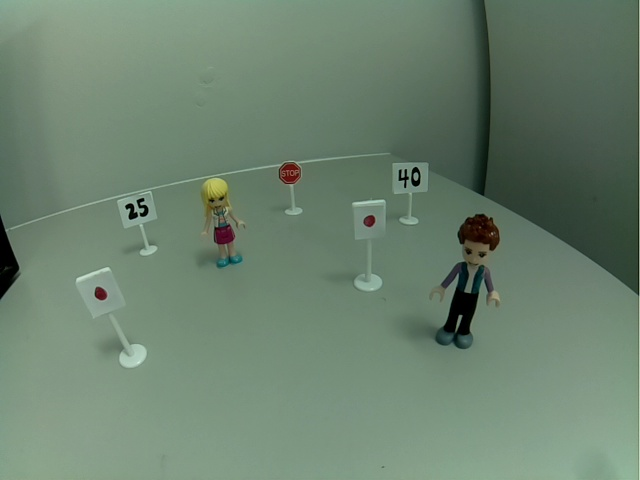people: (425, 212, 504, 352), (197, 176, 249, 270)
red light: (74, 266, 128, 320), (351, 198, 388, 241)
speed 25: (115, 191, 159, 229)
speed 40: (390, 160, 431, 195)
stop: (277, 160, 304, 187)
